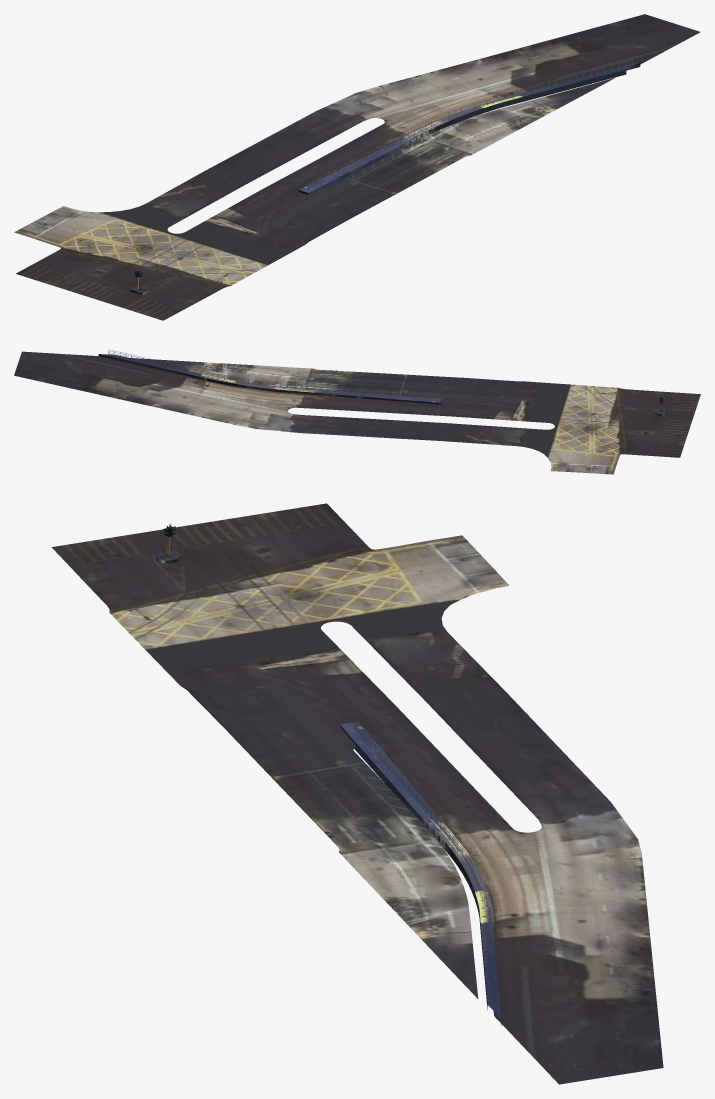
The model's file is percival-street.glb.
The picture shows the model from 3 angles, top to bottom: view 1: azimuth 30°, elevation 25°; view 2: azimuth 150°, elevation 25°; view 3: azimuth 270°, elevation 25°; orthographic projection. The views are drawn at different scales.
Visible parts, largest first — view 1: percival-street; view 2: percival-street; view 3: percival-street.
Part boxes in pixels (x1,y1,x2,y2): percival-street: (14,14,700,320); percival-street: (14,349,700,474); percival-street: (51,503,663,1084).
Size of the model in its own units: 111 by 3.34 by 49.06.
Materials: 7 (7 with a texture image).
